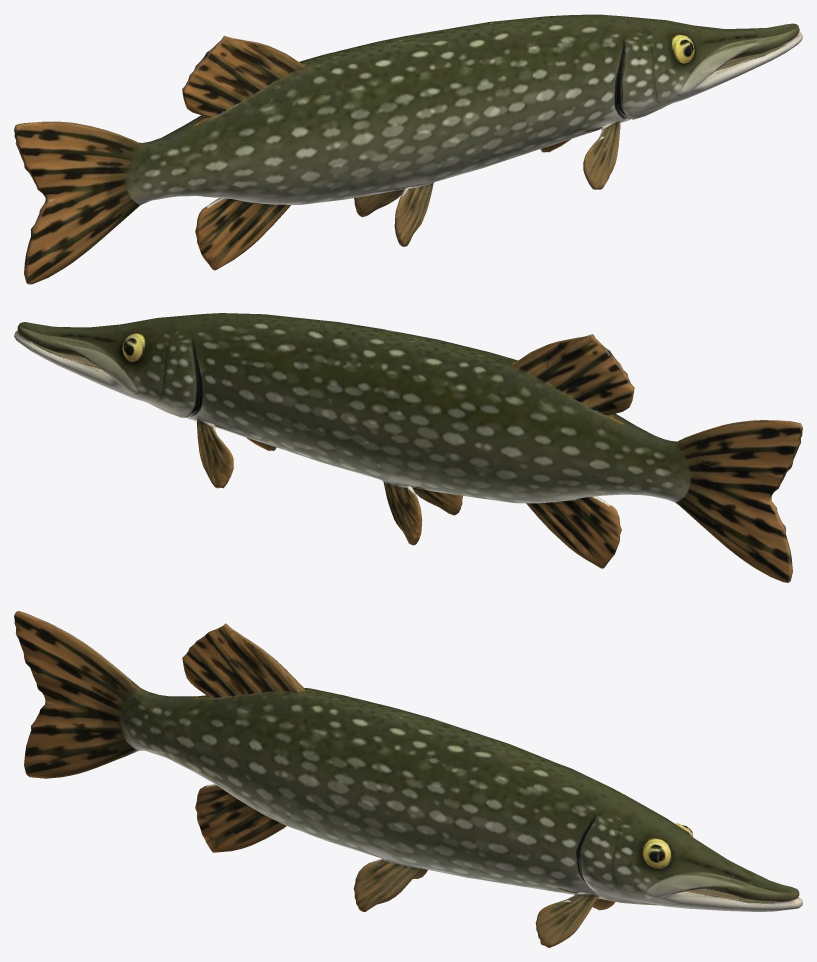
The model's file is northern_pike.glb.
The picture shows the model from 3 angles, top to bottom: view 1: azimuth 30°, elevation 25°; view 2: azimuth 150°, elevation 25°; view 3: azimuth 330°, elevation 25°; orthographic projection.
Parts seen in each view (by area): view 1: fish; view 2: fish; view 3: fish.
Boxes of the visible parts, left/top/right/bottom form: fish: left=14, top=14, right=802, bottom=284; fish: left=14, top=313, right=802, bottom=582; fish: left=14, top=611, right=802, bottom=947.
Bounding box in the file's own units: 0.9999 × 0.2844 × 0.1239.
1 material, 1 textured.
